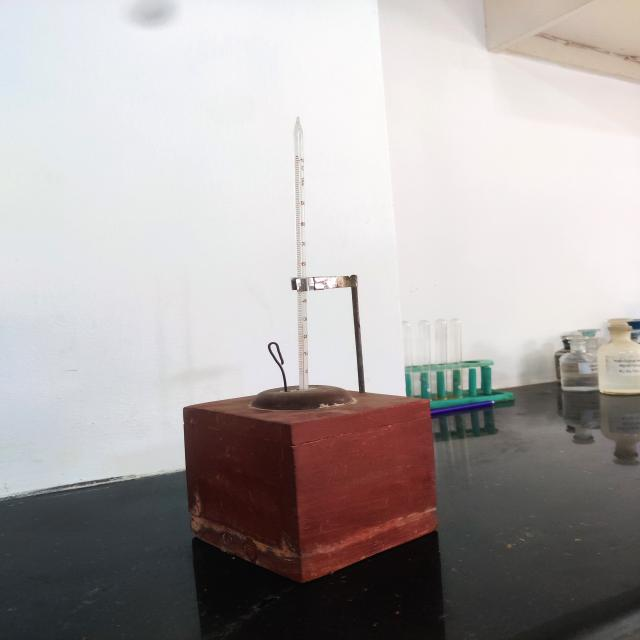Calorimeter: (138, 98, 488, 622)
